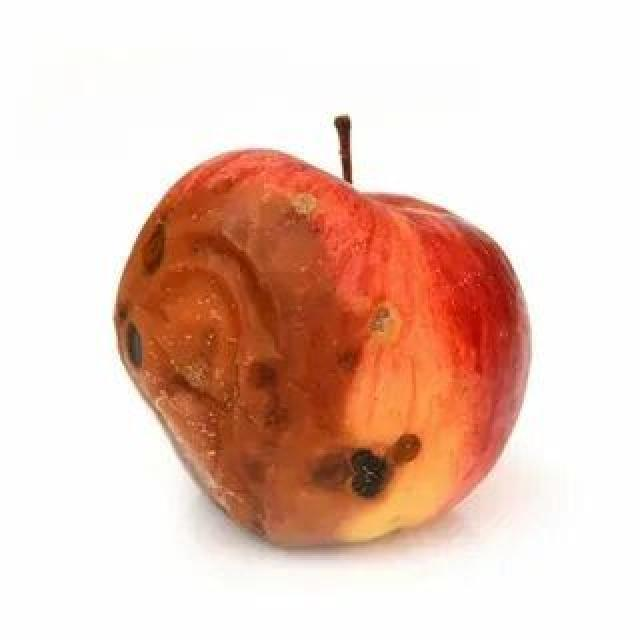Fresh Apple: (102, 155, 538, 548)
